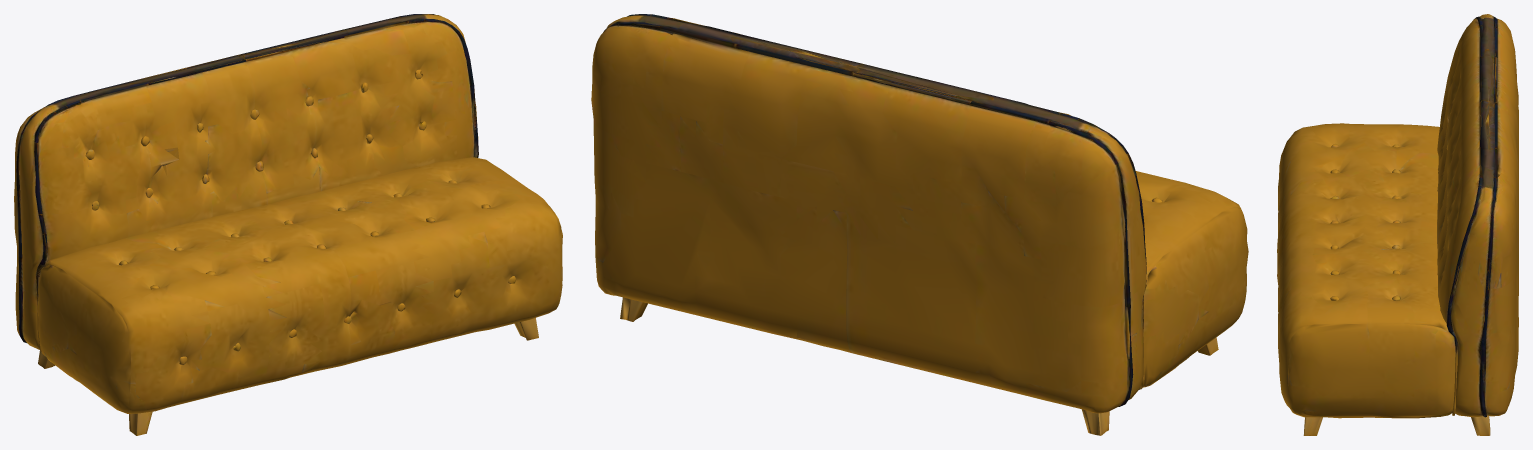
Rendered from loveseat_mustard.glb.
3 renders of one model, left to right at view 1: azimuth 30°, elevation 25°; view 2: azimuth 150°, elevation 25°; view 3: azimuth 270°, elevation 25°, orthographic. The views are drawn at different scales.
Visible parts, largest first — view 1: prop; view 2: prop; view 3: prop.
Boxes of the visible parts, x1=… form: prop: x1=14, y1=14, x2=562, y2=435; prop: x1=591, y1=14, x2=1248, y2=435; prop: x1=1277, y1=14, x2=1518, y2=435.
Bounding box in the file's own units: 1.55 × 0.8455 × 0.7586.
1 material, 1 textured.
